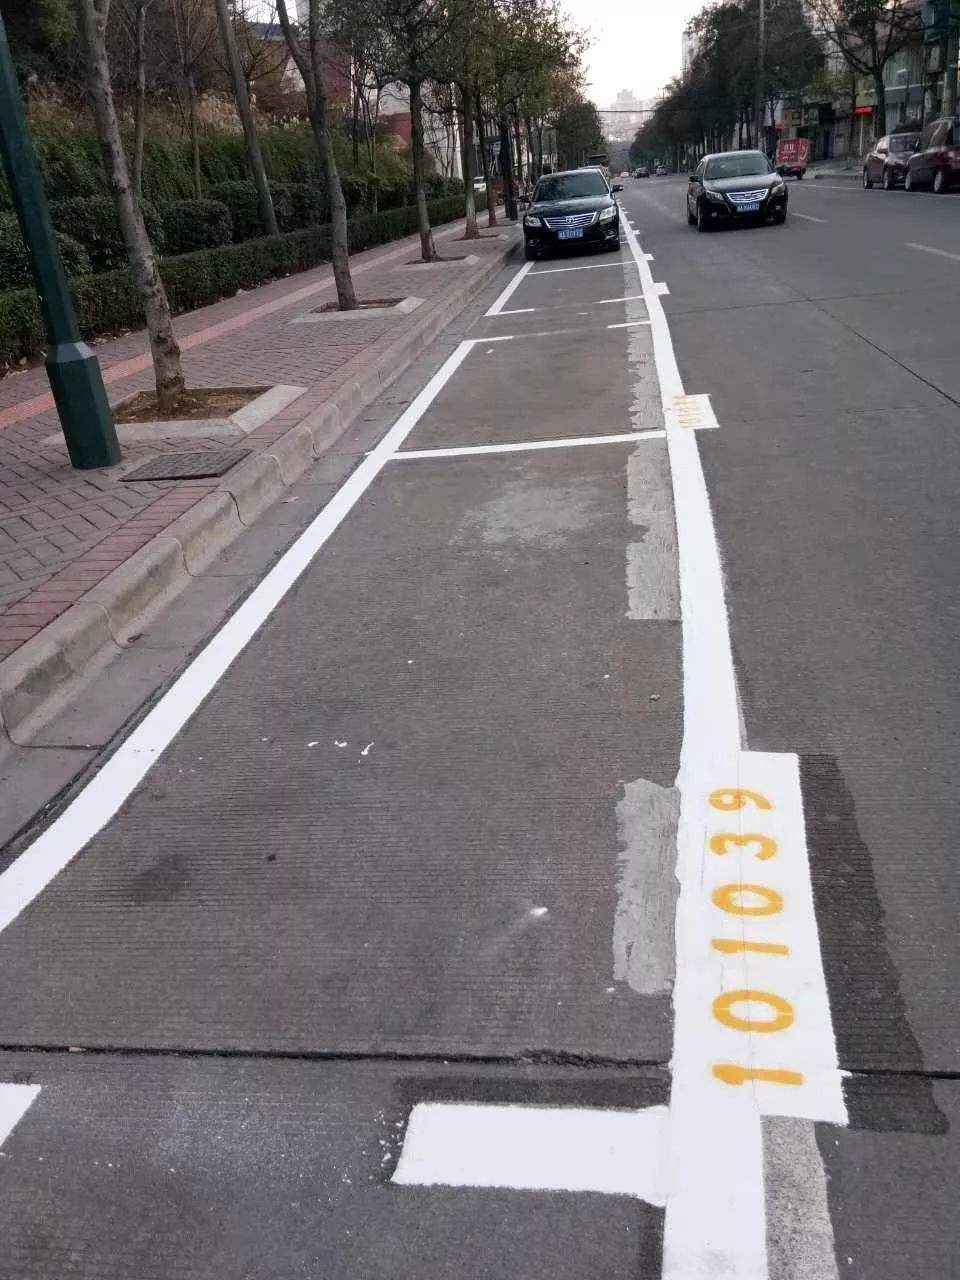slot_nocar: (7, 407, 855, 1226), (298, 311, 734, 480), (468, 244, 684, 329)
